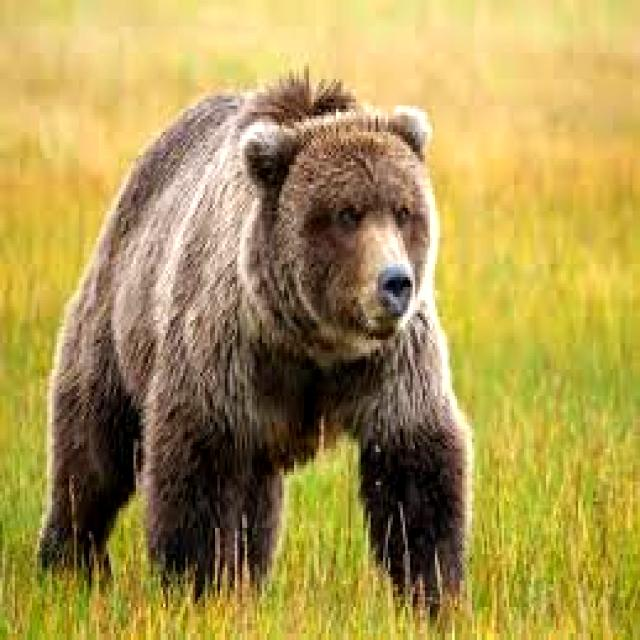bear: (90, 71, 481, 548)
